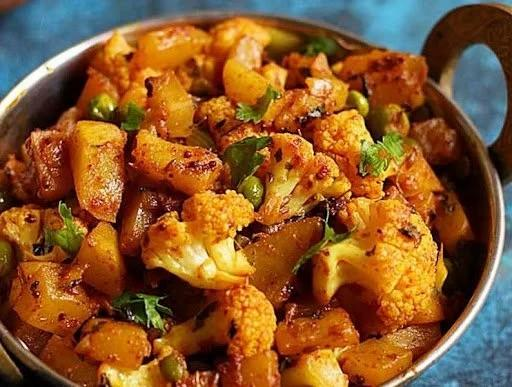AlooGobi: (0, 16, 475, 387)
